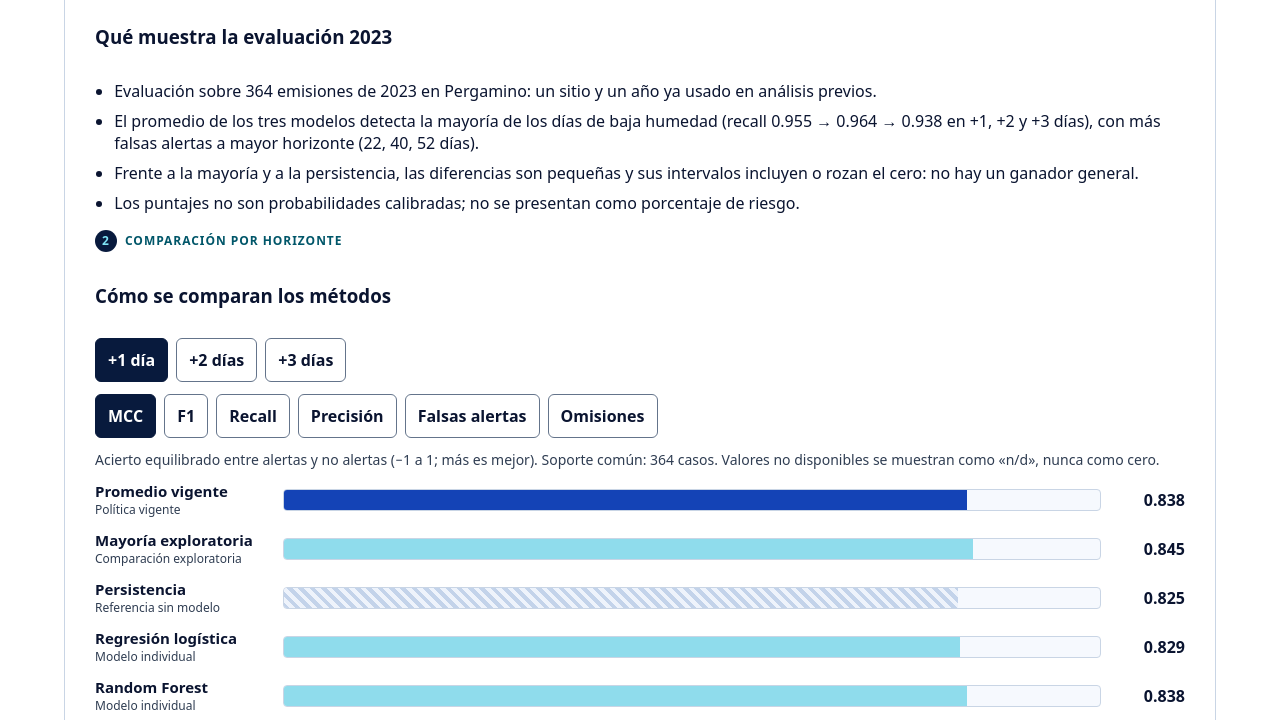
Test: compares methods by horizon with values taken from the versioned projection
This screenshot has width=1280, height=720.
(page scrolled)
Click the button "+3 días": (306, 360) [265,338,346,382]
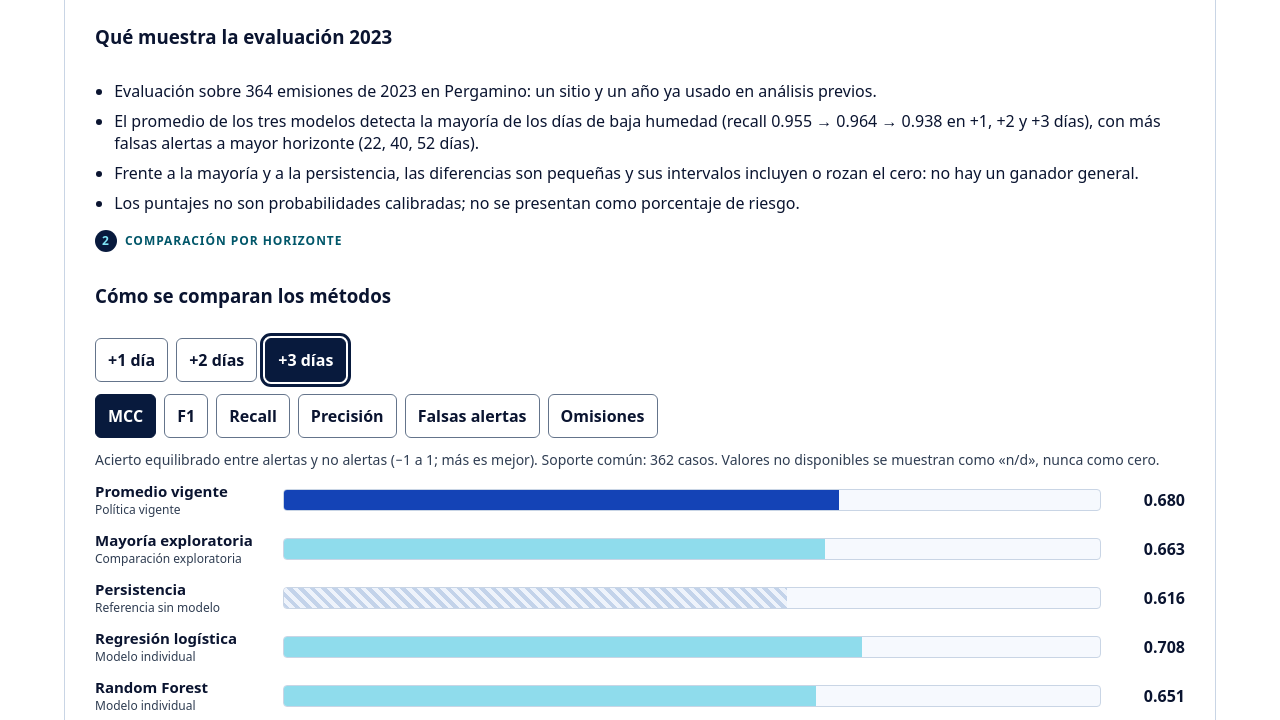
Check: the text "Referencia sin modelo" is shown, box [95,599,220,616]
Check: the text "0.680" is shown, box [1144,489,1185,511]
